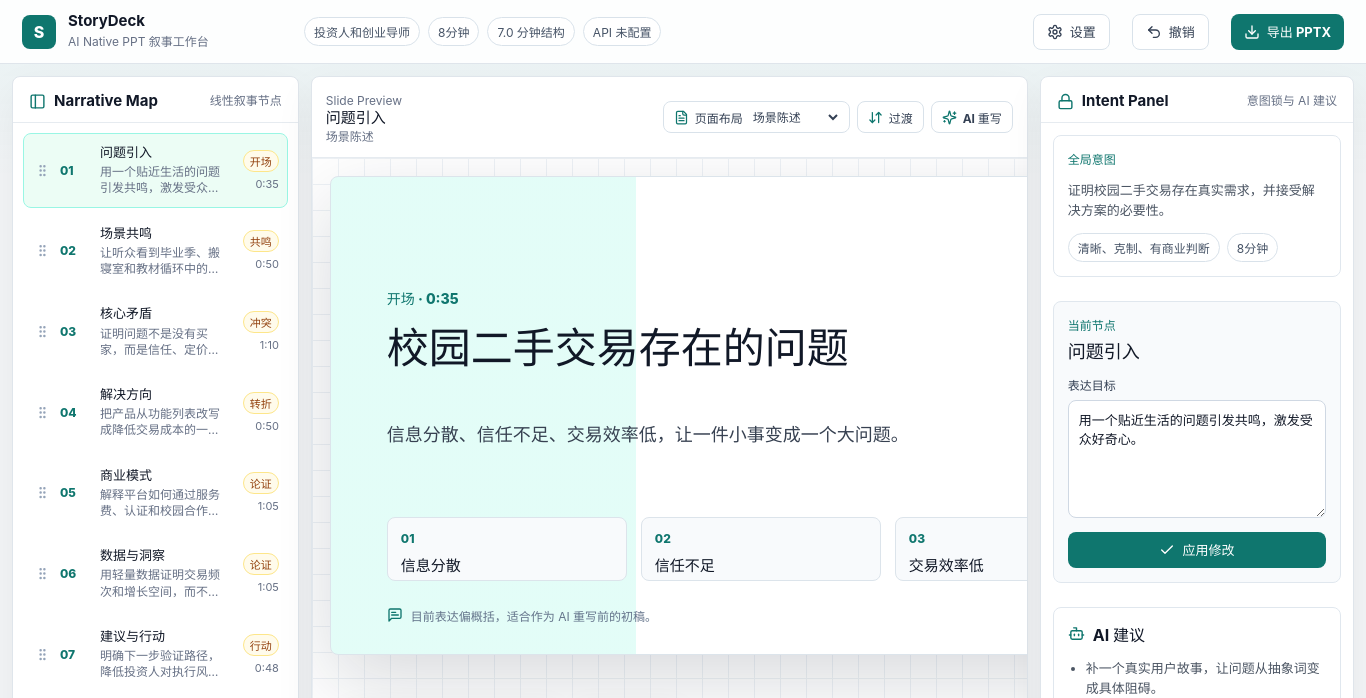
Test: StoryDeck application shell › keeps narrative-map generation in global settings instead of the slide intent panel
Expected: the text "新建叙事地图" is not shown
Expected: the heading "问题引入" is shown, [1068,341,1140,362]
Step 1. Click the button "设置" → (1071, 32), box [1033,14,1110,50]
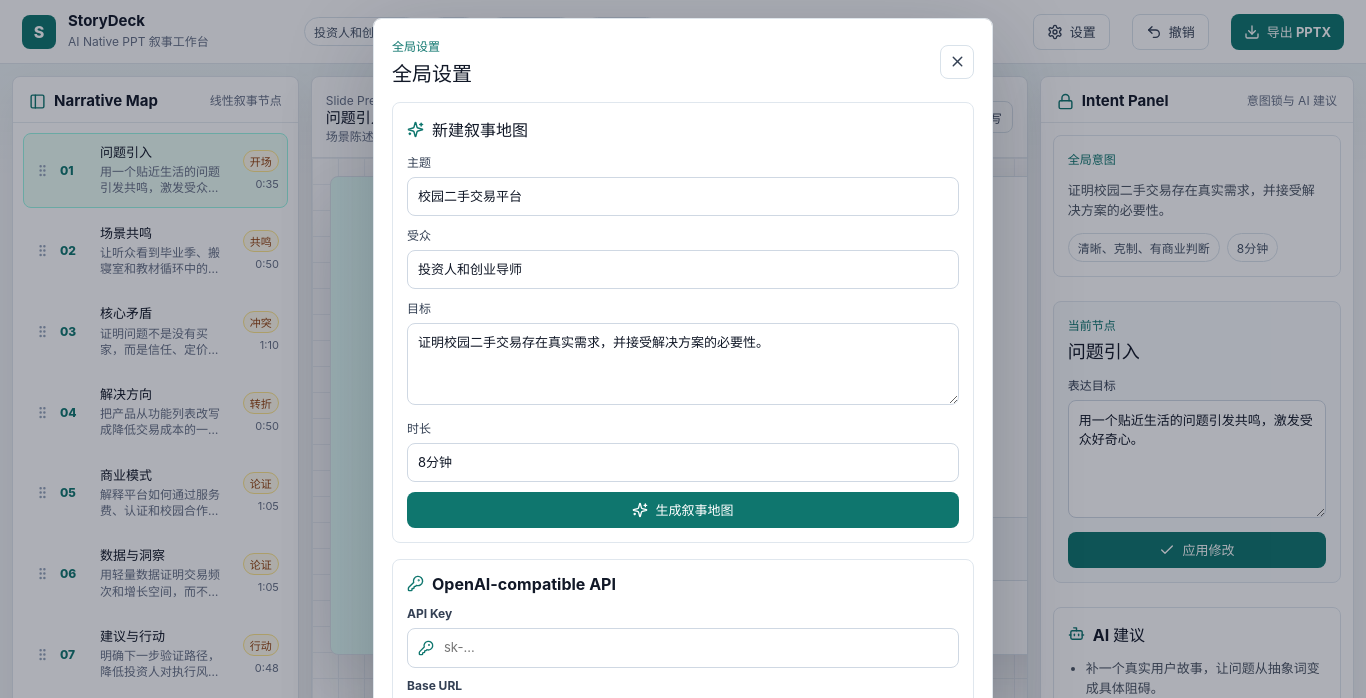
Expected: the text "新建叙事地图" is shown, [432,117,528,141]
Expected: the field labelled "主题" holds "校园二手交易平台", [407,177,959,216]
